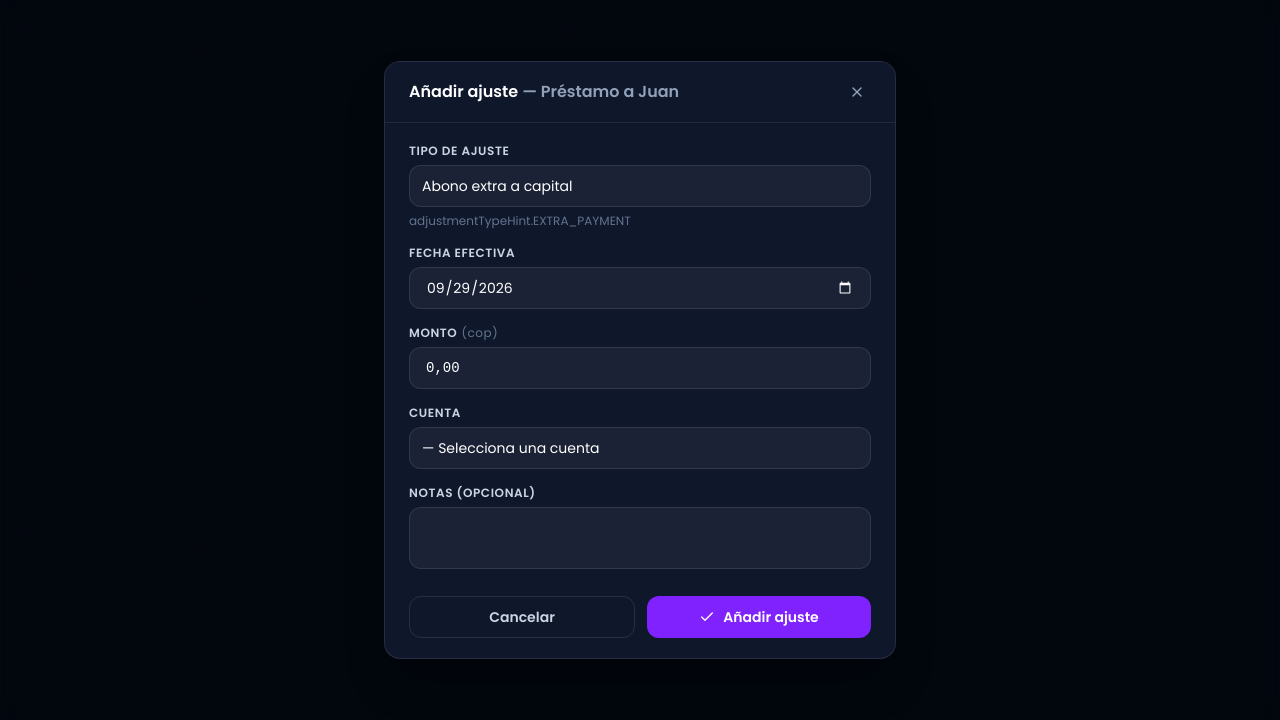
Test: AddAdjustmentModal › bloquea un RESCHEDULE sin nuevo plazo
This screenshot has width=1280, height=720.
expect the date field labelled "Fecha efectiva" is not empty: met, box x1=409 y1=267 x2=871 y2=309
Select "Reprogramar" in the dropdown labelled "Tipo de ajuste": (640, 186) x1=409 y1=165 x2=871 y2=207
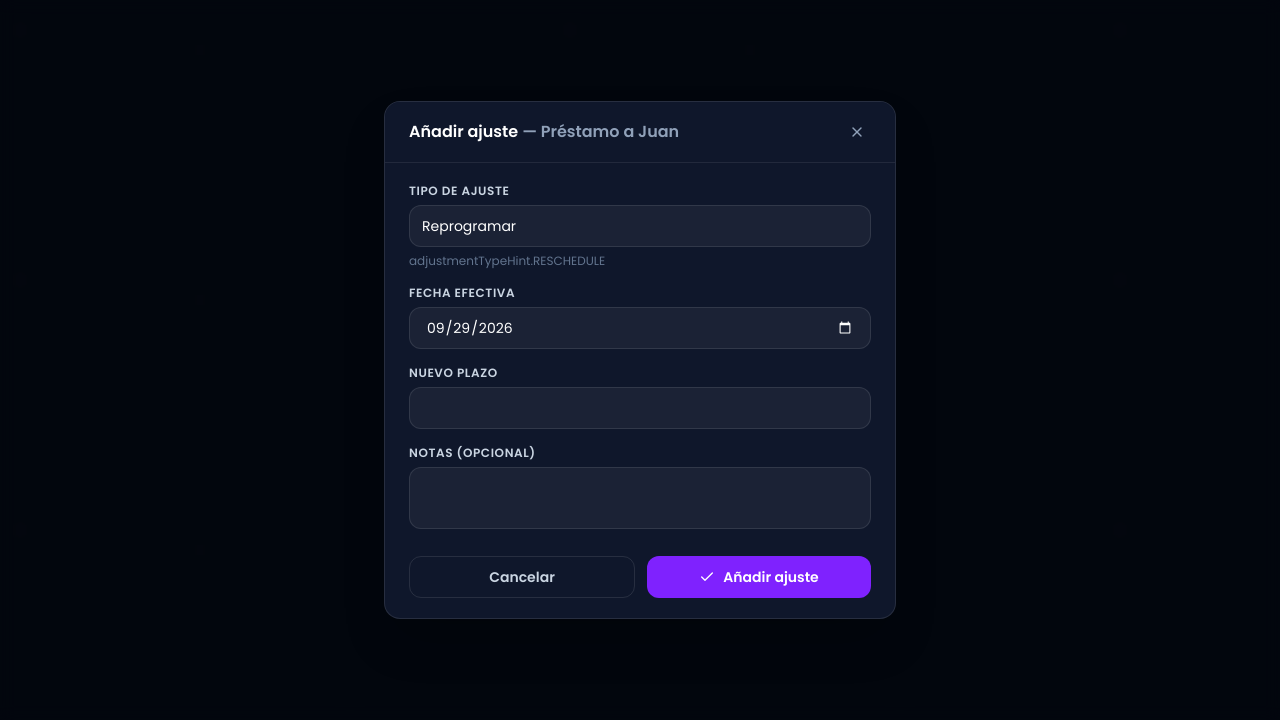
Click the submit button: click(759, 577) x1=647 y1=556 x2=871 y2=598
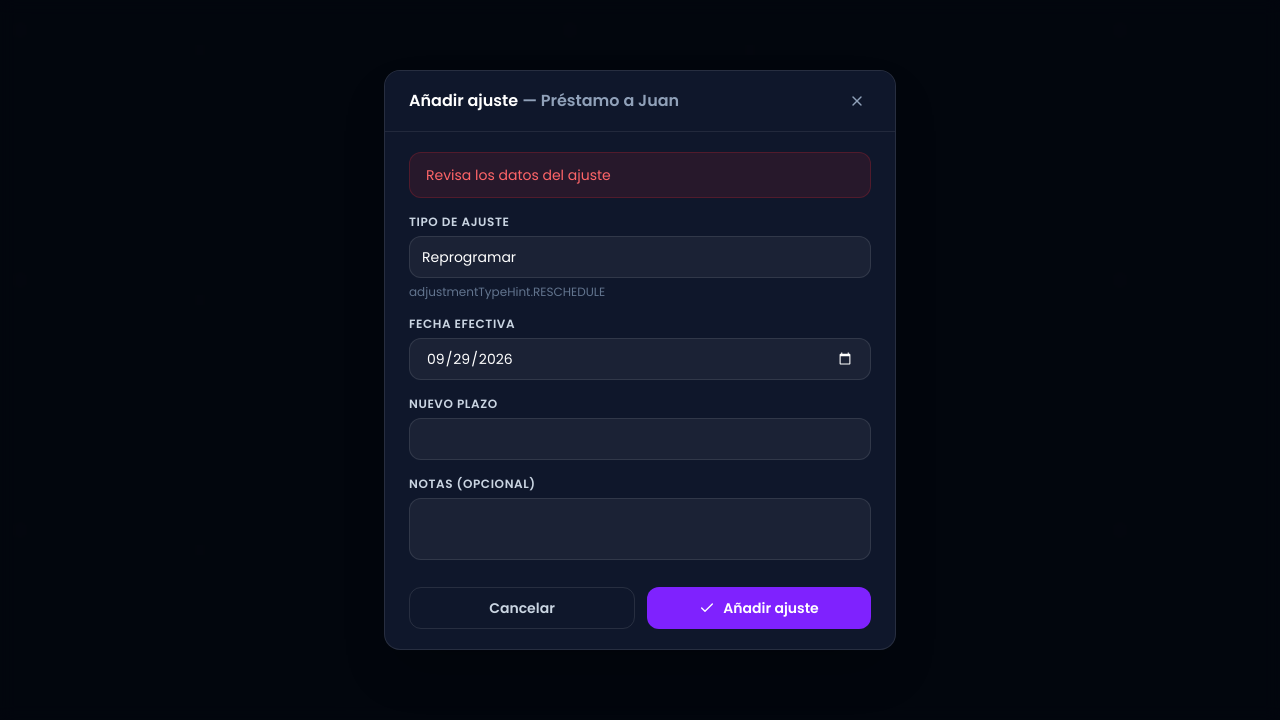
expect the message reads "Revisa los datos del ajuste": met, box x1=426 y1=165 x2=611 y2=185
